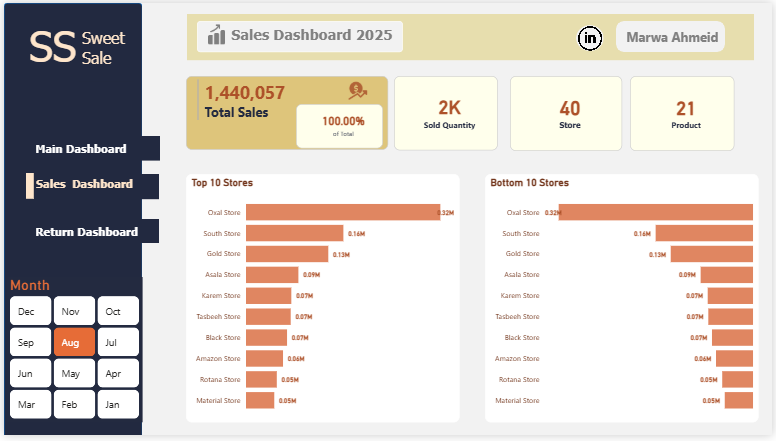

The page's visual inventory and layout, read from the dashboard file:
{"tool":"powerbi","page":{"name":"Sales Dashboard","canvas":[1280,720],"ordinal":1},"visuals":[{"type":"shape","box":[0,0,230.4,816.5],"z":0},{"type":"textbox","box":[48.9,221.7,210,41.4],"z":0,"group":"g1"},{"type":"multiRowCard","fields":{"Values":["Measure.Total Sales"]},"box":[303.3,121.7,336.7,123.3],"z":1000},{"type":"textbox","box":[36,283.4,12.5,42.5],"z":1000,"group":"g1"},{"type":"cardVisual","fields":{"Data":["Measure.Total Quantity"]},"box":[649.6,121.4,172.6,123.9],"z":2000},{"type":"cardVisual","fields":{"Data":["Count(all sales.Store names)"]},"box":[842.6,121.2,187.2,125.3],"z":3000},{"type":"textbox","box":[36.7,21.7,103.3,118.3],"z":4000},{"type":"cardVisual","fields":{"Data":["Count(all sales.المنتج)"]},"box":[1044.2,121.2,174.2,125.3],"z":5000},{"type":"textbox","box":[125.3,36,90.7,93.6],"z":6000},{"type":"textbox","box":[305,18.3,945,76.7],"z":7000},{"type":"shape","box":[953.6,37.3,46.4,43.6],"z":8000},{"type":"shape","box":[1020,30,181.7,51.7],"z":9000},{"type":"image","box":[933.6,30,87.3,58.2],"z":10000},{"type":"textbox","box":[1020,36.7,181.7,53.3],"z":11000},{"type":"textbox","box":[49,360,210.2,40.3],"z":12000},{"type":"textbox","box":[49,285.1,210.2,41.8],"z":13000},{"type":"group","id":"g1","title":"Group 1","box":[36,221.7,222.9,104.2],"z":14000},{"type":"textbox","box":[321.7,30,343.3,51.7],"z":15000},{"type":"advancedSlicerVisual","title":"Month ","fields":{"Values":["all sales.Month Name"]},"box":[4.3,456.5,226.1,241.9],"z":16000},{"type":"clusteredBarChart","title":"Top 10 Stores","fields":{"Category":["all sales.Store names"],"Y":["Measure.Total Sales"]},"box":[302.9,284.3,455.7,414.3],"z":17000},{"type":"cardVisual","fields":{"Data":["Measure.Total Sales"]},"box":[486.4,168.2,145.5,73.6],"z":18000},{"type":"clusteredBarChart","title":"Bottom 10 Stores","fields":{"Category":["all sales.Store names"],"Y":["Measure.Total Sales"]},"box":[801.4,284.3,455.7,414.3],"z":19000},{"type":"actionButton","box":[49,221.8,210.2,40.3],"z":20000},{"type":"actionButton","box":[49,360,210.2,40.3],"z":21000},{"type":"image","box":[323.6,33.6,61.8,38.2],"z":22000},{"type":"image","box":[558.6,130,62.9,31.4],"z":23000}]}

Visuals, with their boxes in screenshot pixels (x1, y1, x2, y2), scaled from the page's 1280x720 canvas onto the 776x441 screenshot:
shape: (0, 0, 140, 440)
textbox: (30, 136, 157, 161)
multiRowCard - Measure.Total Sales: (184, 75, 388, 150)
textbox: (22, 174, 29, 200)
cardVisual - Measure.Total Quantity: (394, 74, 498, 150)
cardVisual - Count(all sales.Store names): (511, 74, 624, 151)
textbox: (22, 13, 85, 86)
cardVisual - Count(all sales.المنتج): (633, 74, 739, 151)
textbox: (76, 22, 131, 79)
textbox: (185, 11, 758, 58)
shape: (578, 23, 606, 50)
shape: (618, 18, 729, 50)
image: (566, 18, 619, 54)
textbox: (618, 22, 729, 55)
textbox: (30, 221, 157, 245)
textbox: (30, 175, 157, 200)
"Group 1" group: (22, 136, 157, 200)
textbox: (195, 18, 403, 50)
"Month " advancedSlicerVisual: (3, 280, 140, 428)
"Top 10 Stores" clusteredBarChart: (184, 174, 460, 428)
cardVisual - Measure.Total Sales: (295, 103, 383, 148)
"Bottom 10 Stores" clusteredBarChart: (486, 174, 762, 428)
actionButton: (30, 136, 157, 161)
actionButton: (30, 221, 157, 245)
image: (196, 21, 234, 44)
image: (339, 80, 377, 99)
